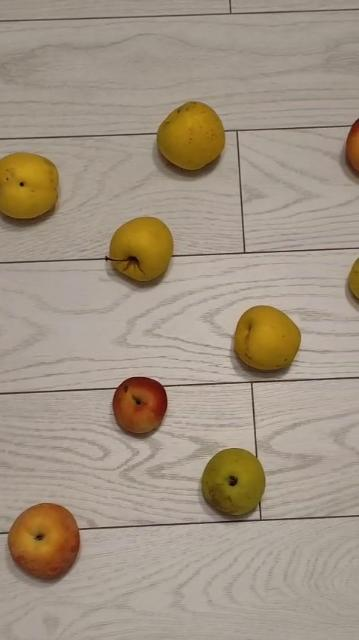apple_green: (158, 101, 226, 169), (200, 447, 266, 515), (107, 216, 173, 280), (235, 306, 302, 369), (0, 151, 59, 218), (349, 255, 359, 300)
apple_red: (7, 502, 80, 579), (113, 377, 167, 433), (345, 116, 359, 173)
